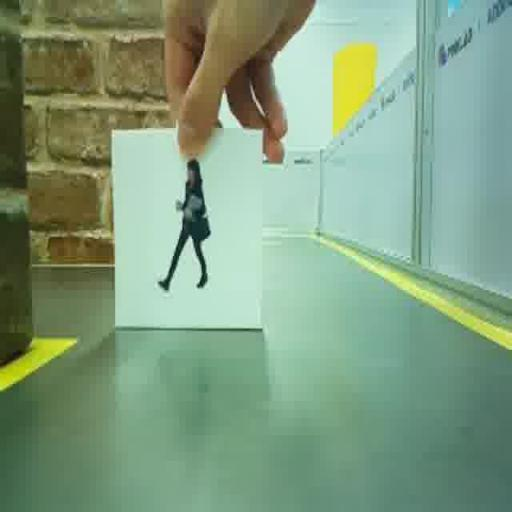human: (158, 159, 210, 290)
